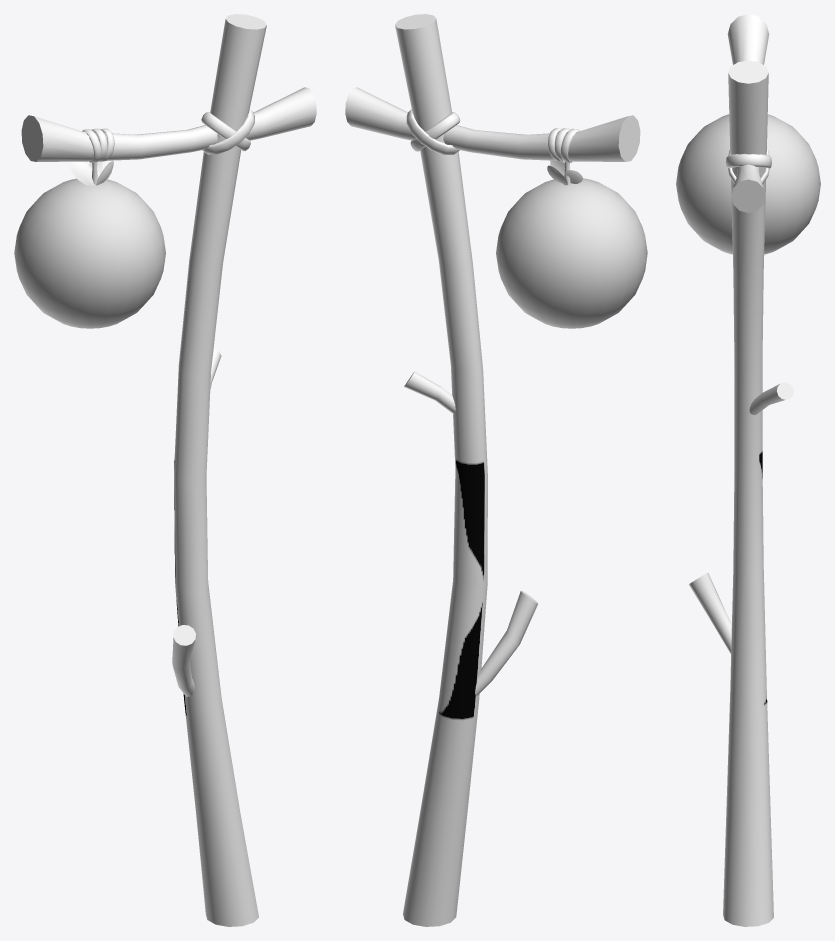
File: Lamp_01_1.fbx
3 renders of one model, left to right at view 1: azimuth 30°, elevation 25°; view 2: azimuth 150°, elevation 25°; view 3: azimuth 270°, elevation 25°, orthographic. The views are drawn at different scales.
Parts seen in each view (by area): view 1: Cylinder001, Sphere001; view 2: Cylinder001, Sphere001; view 3: Cylinder001, Sphere001.
Boxes of the visible parts, <box> form: Cylinder001: <box>21,14,316,926</box>; Sphere001: <box>14,178,165,328</box>; Cylinder001: <box>345,14,640,926</box>; Sphere001: <box>496,178,647,328</box>; Cylinder001: <box>689,14,793,926</box>; Sphere001: <box>676,114,820,254</box>.
Size of the model in its own units: 162 by 486 by 74.77.
